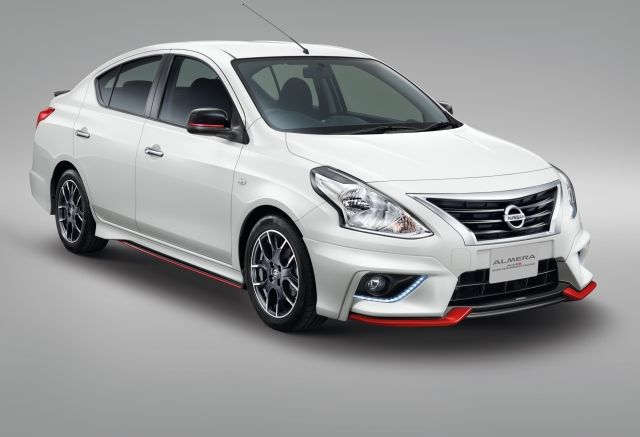sedan: (29, 36, 601, 337)
